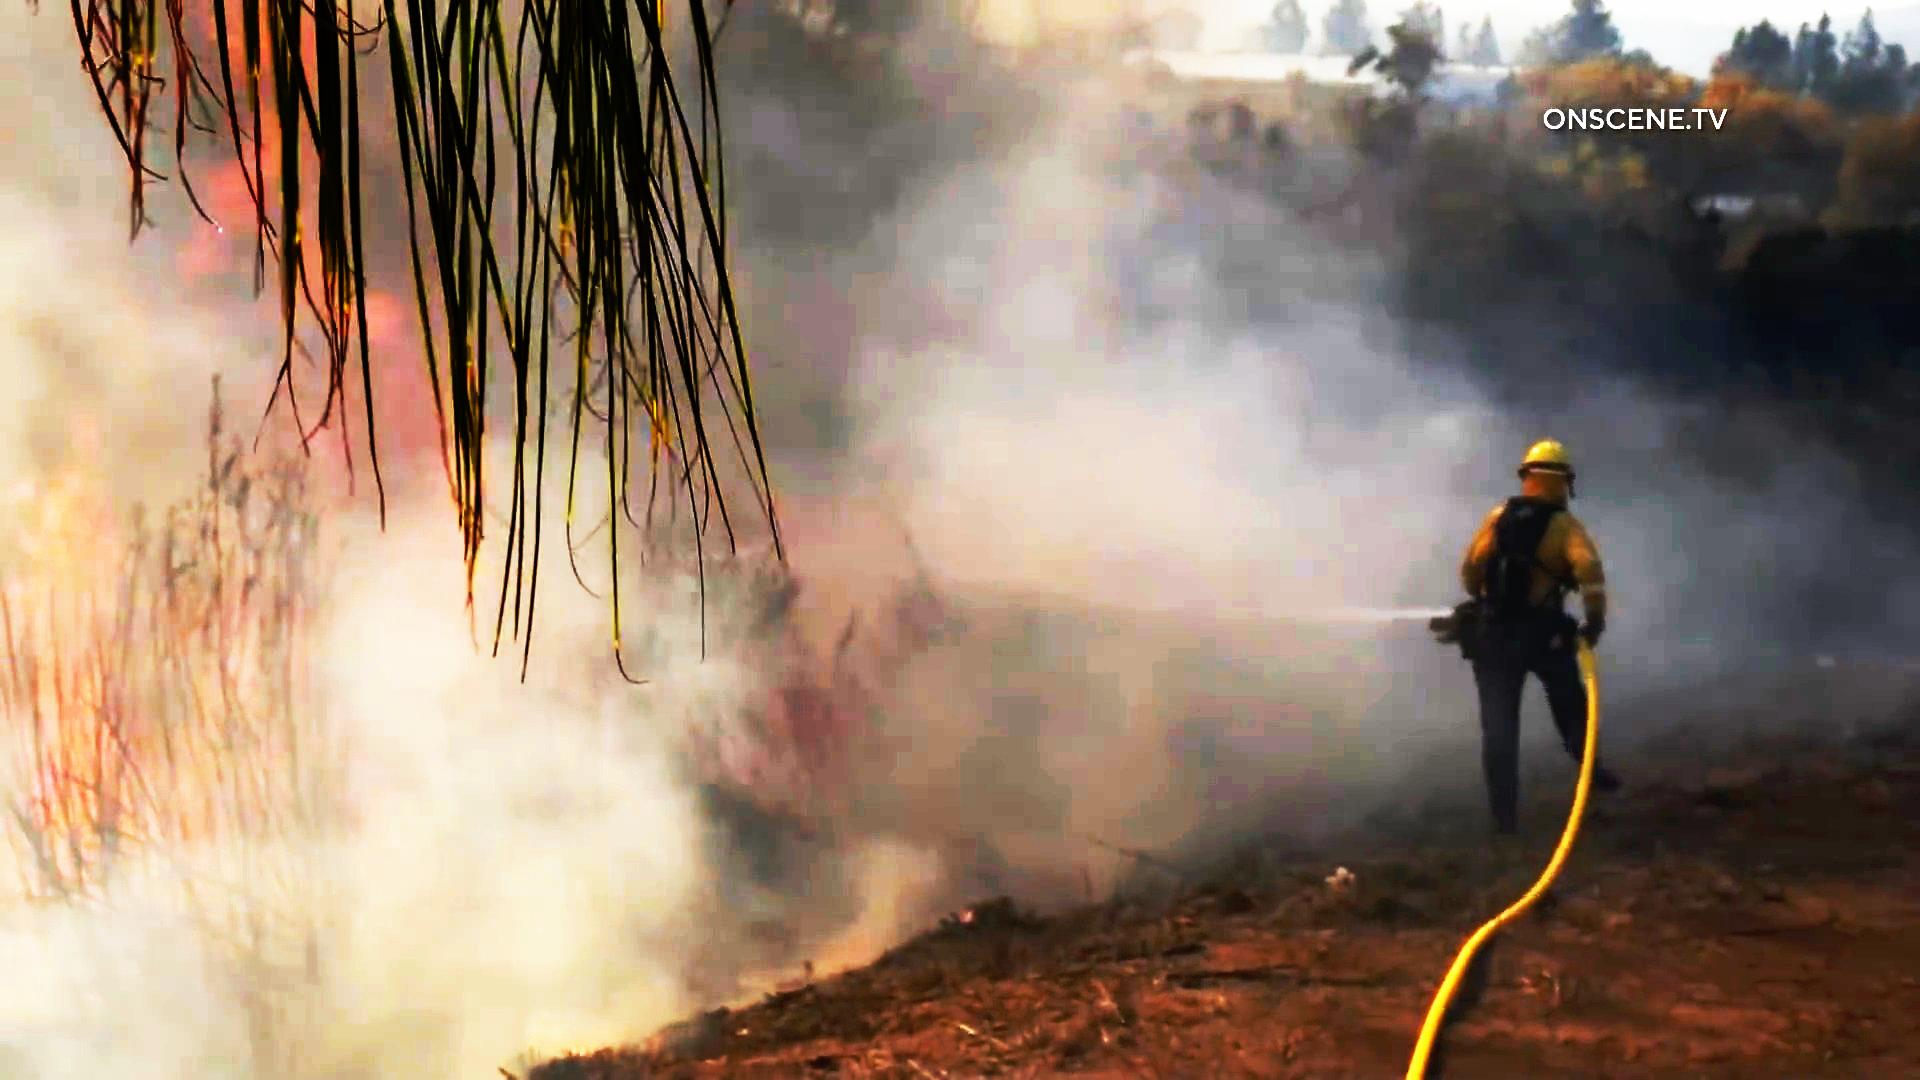smoke: (8, 8, 222, 545), (976, 18, 1291, 378), (443, 613, 687, 990), (86, 913, 396, 1062)
